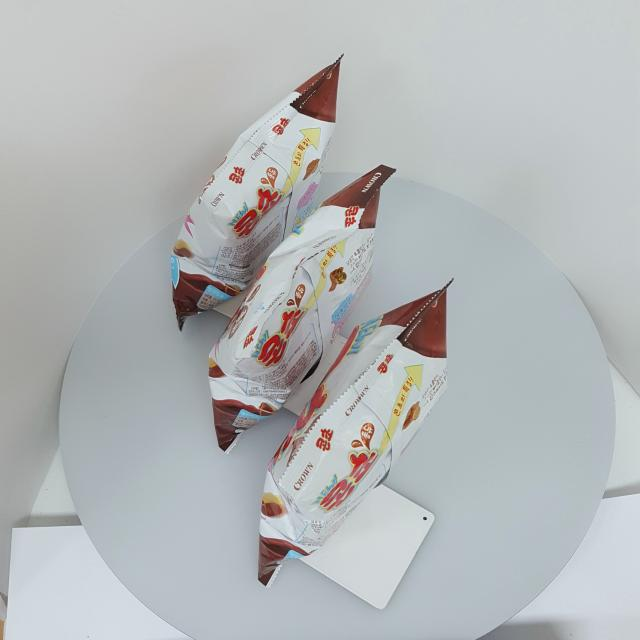-66G: (258, 279, 455, 590), (209, 165, 398, 455), (171, 53, 345, 333)
